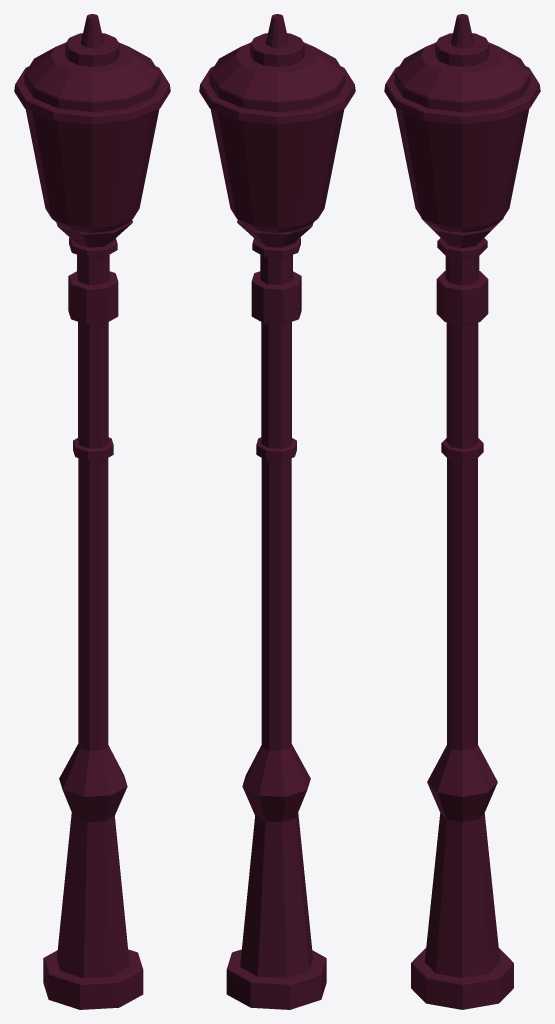
File: Lamp5.obj
The picture shows the model from 3 angles, left to right: view 1: azimuth 30°, elevation 25°; view 2: azimuth 150°, elevation 25°; view 3: azimuth 270°, elevation 25°; orthographic projection.
Parts seen in each view (by area): view 1: 5_low; view 2: 5_low; view 3: 5_low.
Boxes of the visible parts, x1,y1,x2,y2 form: 5_low: [14, 14, 170, 1009]; 5_low: [199, 14, 355, 1009]; 5_low: [384, 14, 540, 1009].
Size of the model in its own units: 0.486 by 3.33 by 0.486.
